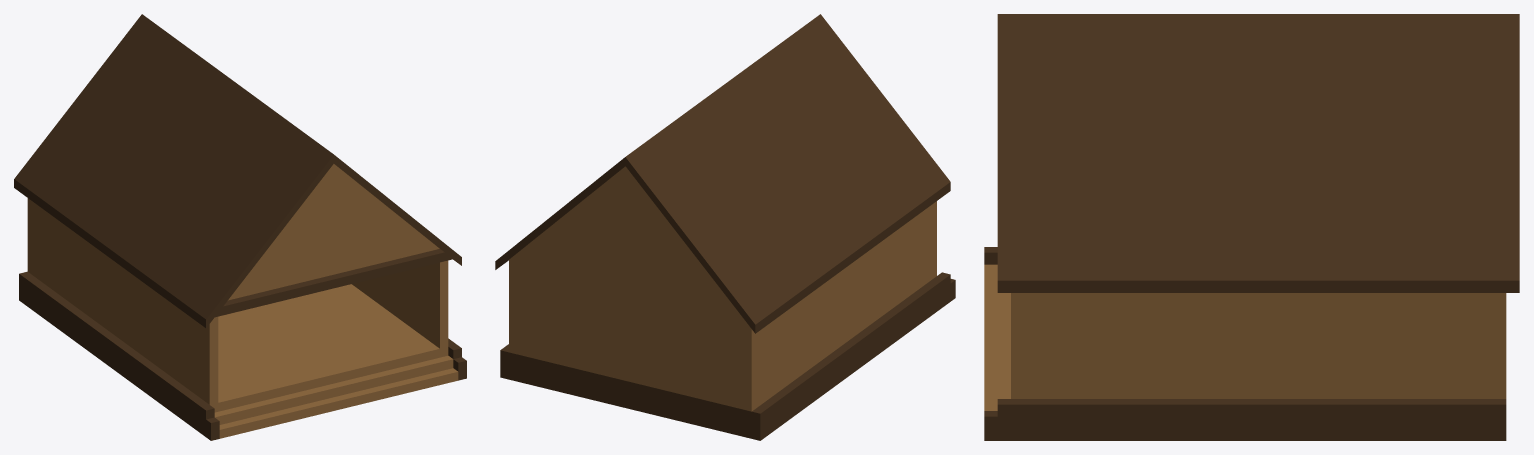
File: Celeiro.fbx
3 renders of one model, left to right at view 1: azimuth 30°, elevation 25°; view 2: azimuth 150°, elevation 25°; view 3: azimuth 270°, elevation 25°, orthographic. The views are drawn at different scales.
Parts seen in each view (by area): view 1: Celeiro; view 2: Celeiro; view 3: Celeiro.
Boxes of the visible parts, x1=… form: Celeiro: x1=14, y1=14, x2=466, y2=440; Celeiro: x1=495, y1=14, x2=955, y2=440; Celeiro: x1=984, y1=14, x2=1519, y2=440.
Size of the model in its own units: 600 by 564 by 800.
